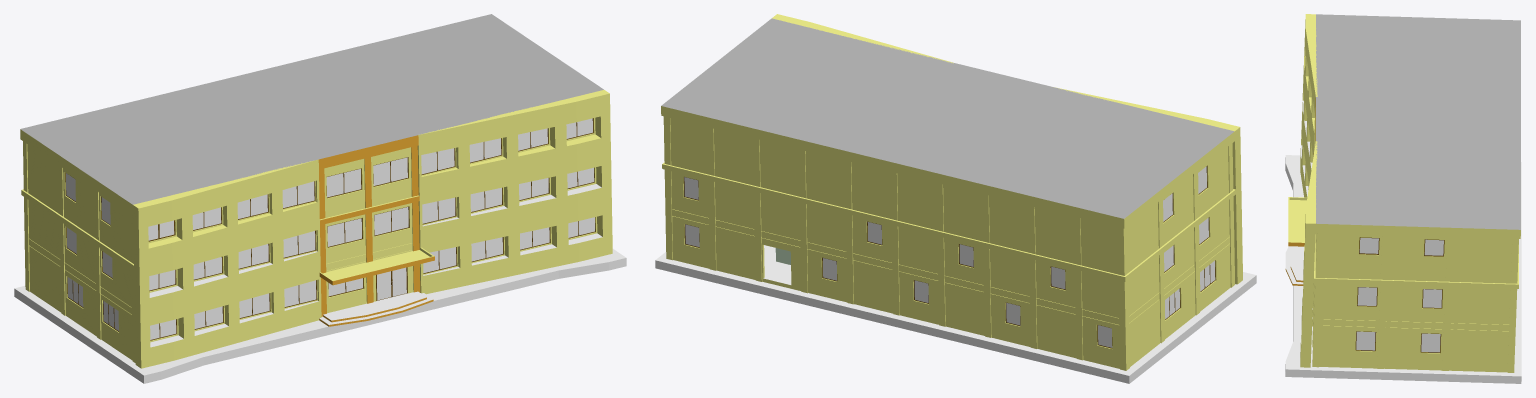
The model's file is Kiranbest.glb.
The picture shows the model from 3 angles, left to right: view 1: azimuth 30°, elevation 25°; view 2: azimuth 150°, elevation 25°; view 3: azimuth 270°, elevation 25°; orthographic projection. The views are drawn at different scales.
Visible parts, largest first — view 1: 3DGeom-2114, 3DGeom-2117, 3DGeom-2196, 3DGeom-2253, 3DGeom-2122, 3DGeom-2124, 3DGeom-2139, 3DGeom-2118, 3DGeom-2140, 3DGeom-2128, 3DGeom-2121, 3DGeom-2197 (+2 smaller); view 2: 3DGeom-2117, 3DGeom-2114, 3DGeom-2116, 3DGeom-2122, 3DGeom-2121, 3DGeom-2253, 3DGeom-2118, 3DGeom-2196, 3DGeom-2126; view 3: 3DGeom-2114, 3DGeom-2117, 3DGeom-2253, 3DGeom-2196, 3DGeom-2122, 3DGeom-2116, 3DGeom-2121, 3DGeom-2140, 3DGeom-2128, 3DGeom-2118, 3DGeom-2139.
Part boxes in pixels (bbox=[...]): 3DGeom-2114: bbox=[20, 14, 603, 204]; 3DGeom-2117: bbox=[20, 118, 597, 362]; 3DGeom-2196: bbox=[417, 90, 612, 294]; 3DGeom-2253: bbox=[133, 159, 321, 368]; 3DGeom-2122: bbox=[66, 118, 594, 339]; 3DGeom-2124: bbox=[318, 135, 434, 326]; 3DGeom-2139: bbox=[133, 258, 626, 383]; 3DGeom-2118: bbox=[65, 118, 595, 340]; 3DGeom-2140: bbox=[133, 251, 626, 375]; 3DGeom-2128: bbox=[319, 291, 433, 324]; 3DGeom-2121: bbox=[14, 249, 615, 368]; 3DGeom-2197: bbox=[422, 184, 602, 275]; 3DGeom-2117: bbox=[661, 106, 1235, 370]; 3DGeom-2114: bbox=[661, 18, 1234, 218]; 3DGeom-2116: bbox=[655, 260, 1246, 383]; 3DGeom-2122: bbox=[684, 166, 1215, 347]; 3DGeom-2121: bbox=[655, 252, 1245, 375]; 3DGeom-2253: bbox=[1053, 87, 1242, 284]; 3DGeom-2118: bbox=[683, 166, 1215, 348]; 3DGeom-2196: bbox=[772, 14, 953, 63]; 3DGeom-2126: bbox=[763, 245, 791, 284]; 3DGeom-2114: bbox=[1316, 14, 1520, 229]; 3DGeom-2117: bbox=[1288, 152, 1520, 372]; 3DGeom-2253: bbox=[1300, 14, 1317, 197]; 3DGeom-2196: bbox=[1300, 141, 1317, 367]; 3DGeom-2122: bbox=[1356, 238, 1443, 352]; 3DGeom-2116: bbox=[1304, 370, 1521, 383]; 3DGeom-2121: bbox=[1304, 162, 1521, 376]; 3DGeom-2140: bbox=[1285, 155, 1304, 369]; 3DGeom-2128: bbox=[1285, 246, 1304, 284]; 3DGeom-2118: bbox=[1355, 237, 1444, 353]; 3DGeom-2139: bbox=[1285, 157, 1304, 377].
Bounding box in the file's own units: 30.4 × 10.45 × 14.16.
